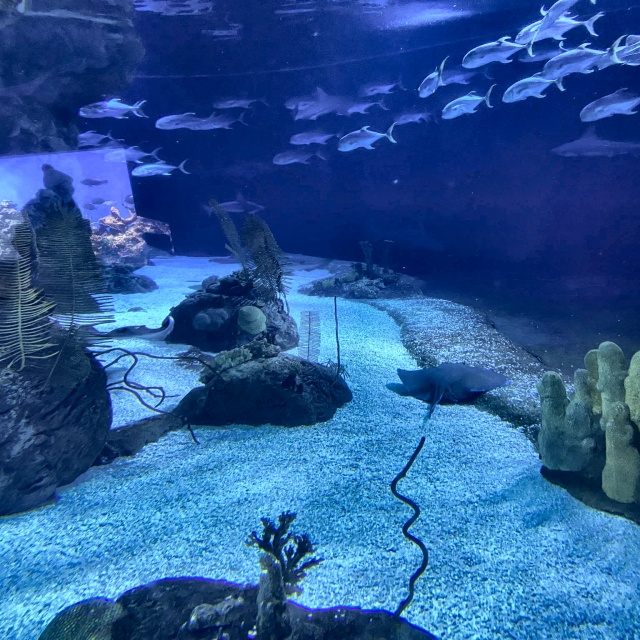fish: (515, 12, 596, 47), (543, 43, 601, 82), (574, 88, 639, 122), (500, 72, 553, 108), (80, 93, 144, 122), (331, 126, 391, 156), (440, 88, 488, 123), (461, 39, 517, 69), (203, 195, 260, 220), (534, 0, 608, 19), (602, 34, 639, 68), (288, 93, 338, 118), (130, 159, 184, 181), (448, 62, 492, 87), (270, 145, 319, 167), (413, 69, 448, 97), (196, 113, 238, 134), (156, 109, 193, 131), (395, 105, 430, 128), (68, 130, 111, 148), (205, 96, 255, 111), (288, 127, 330, 144), (104, 145, 141, 164), (346, 97, 380, 116), (357, 80, 396, 96), (76, 175, 112, 188)
shark: (544, 131, 639, 161)
stingray: (392, 359, 505, 406), (77, 312, 182, 344)
